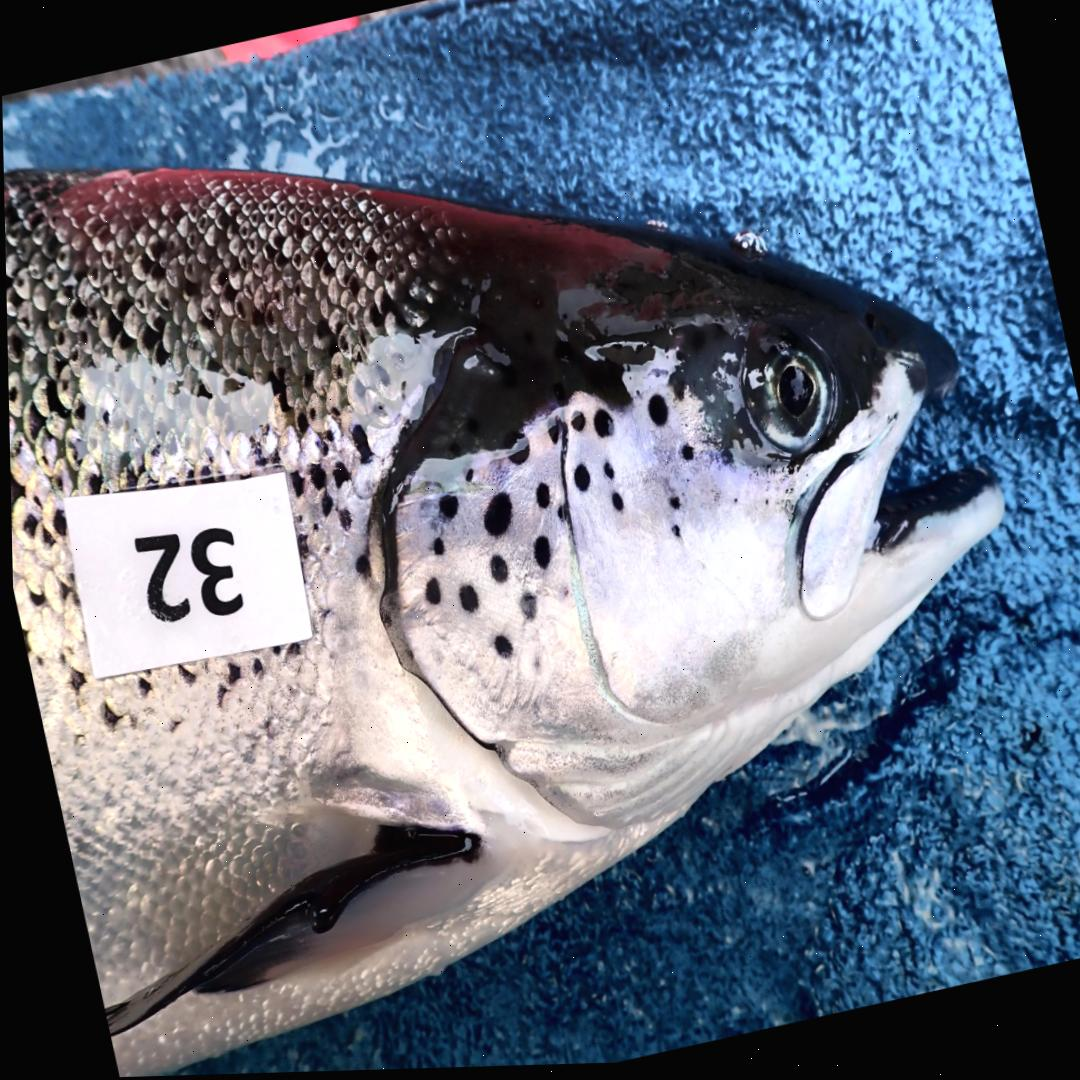spot: (480, 494, 509, 540), (644, 396, 666, 430), (505, 435, 527, 468), (455, 586, 476, 616), (590, 412, 611, 442), (529, 539, 547, 572), (486, 556, 505, 585), (435, 496, 456, 521), (516, 596, 533, 624), (570, 467, 587, 495), (490, 636, 509, 661), (421, 581, 438, 608), (532, 485, 547, 512), (545, 419, 557, 446), (568, 414, 583, 435), (676, 447, 691, 466), (607, 496, 621, 516), (459, 459, 470, 484), (429, 540, 442, 559), (599, 464, 612, 483), (665, 498, 679, 514), (666, 528, 678, 543), (554, 508, 564, 524), (529, 657, 537, 672), (557, 587, 565, 600)
